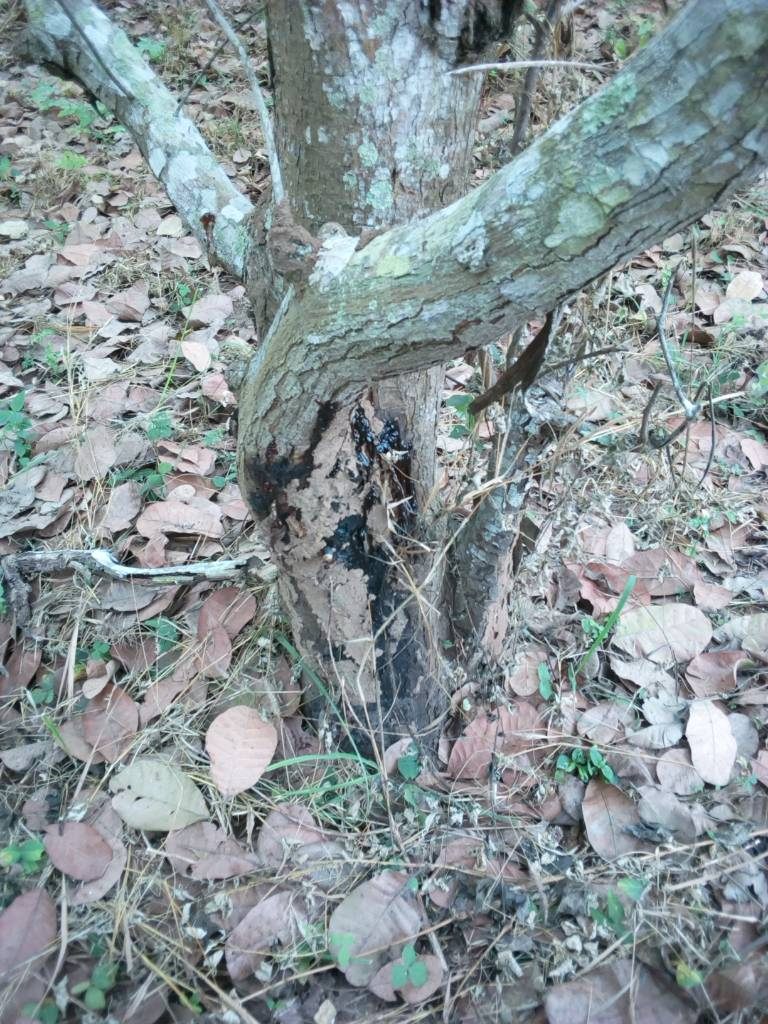Termites: (254, 452, 394, 680), (247, 203, 324, 277)
